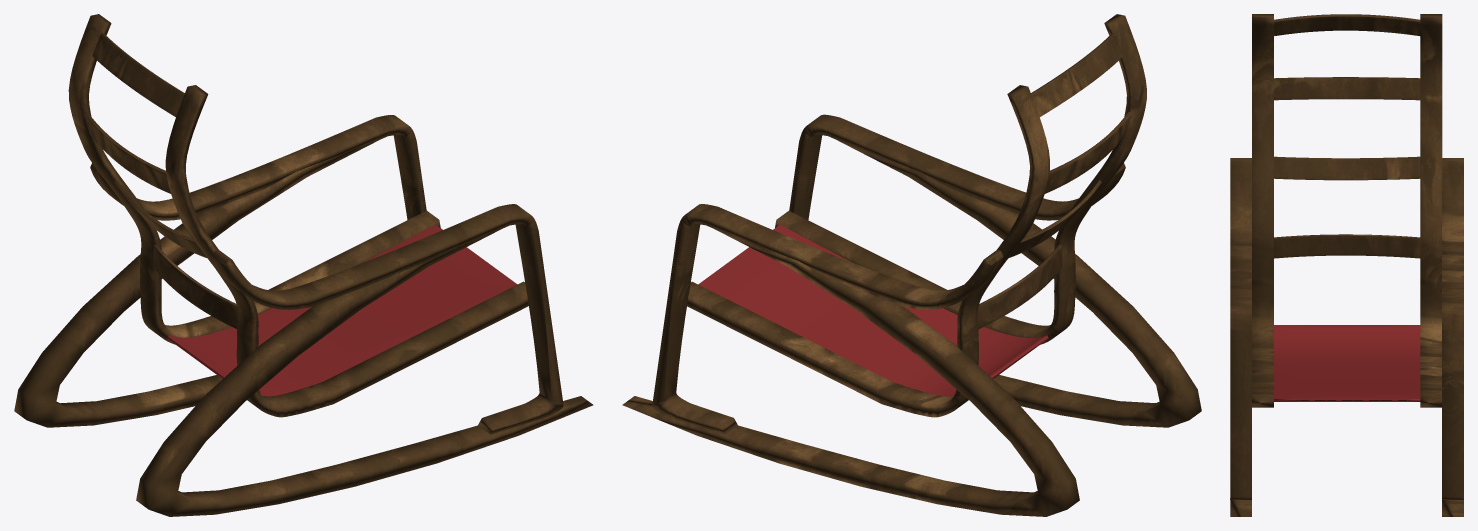
3 views of the same model, side by side, from view 1: azimuth 30°, elevation 25°; view 2: azimuth 150°, elevation 25°; view 3: azimuth 270°, elevation 25° (orthographic). The views are drawn at different scales.
Parts seen in each view (by area): view 1: Kat_rocking_chair (×11); view 2: Kat_rocking_chair (×11); view 3: Kat_rocking_chair (×11).
Part boxes in pixels (x1,y1,x2,y2): Kat_rocking_chair (×11): (14,14,593,516); Kat_rocking_chair (×11): (622,14,1201,516); Kat_rocking_chair (×11): (1230,14,1463,516).
Bounding box in the file's own units: 143 × 128 × 74.79.
1 material, 1 textured.
